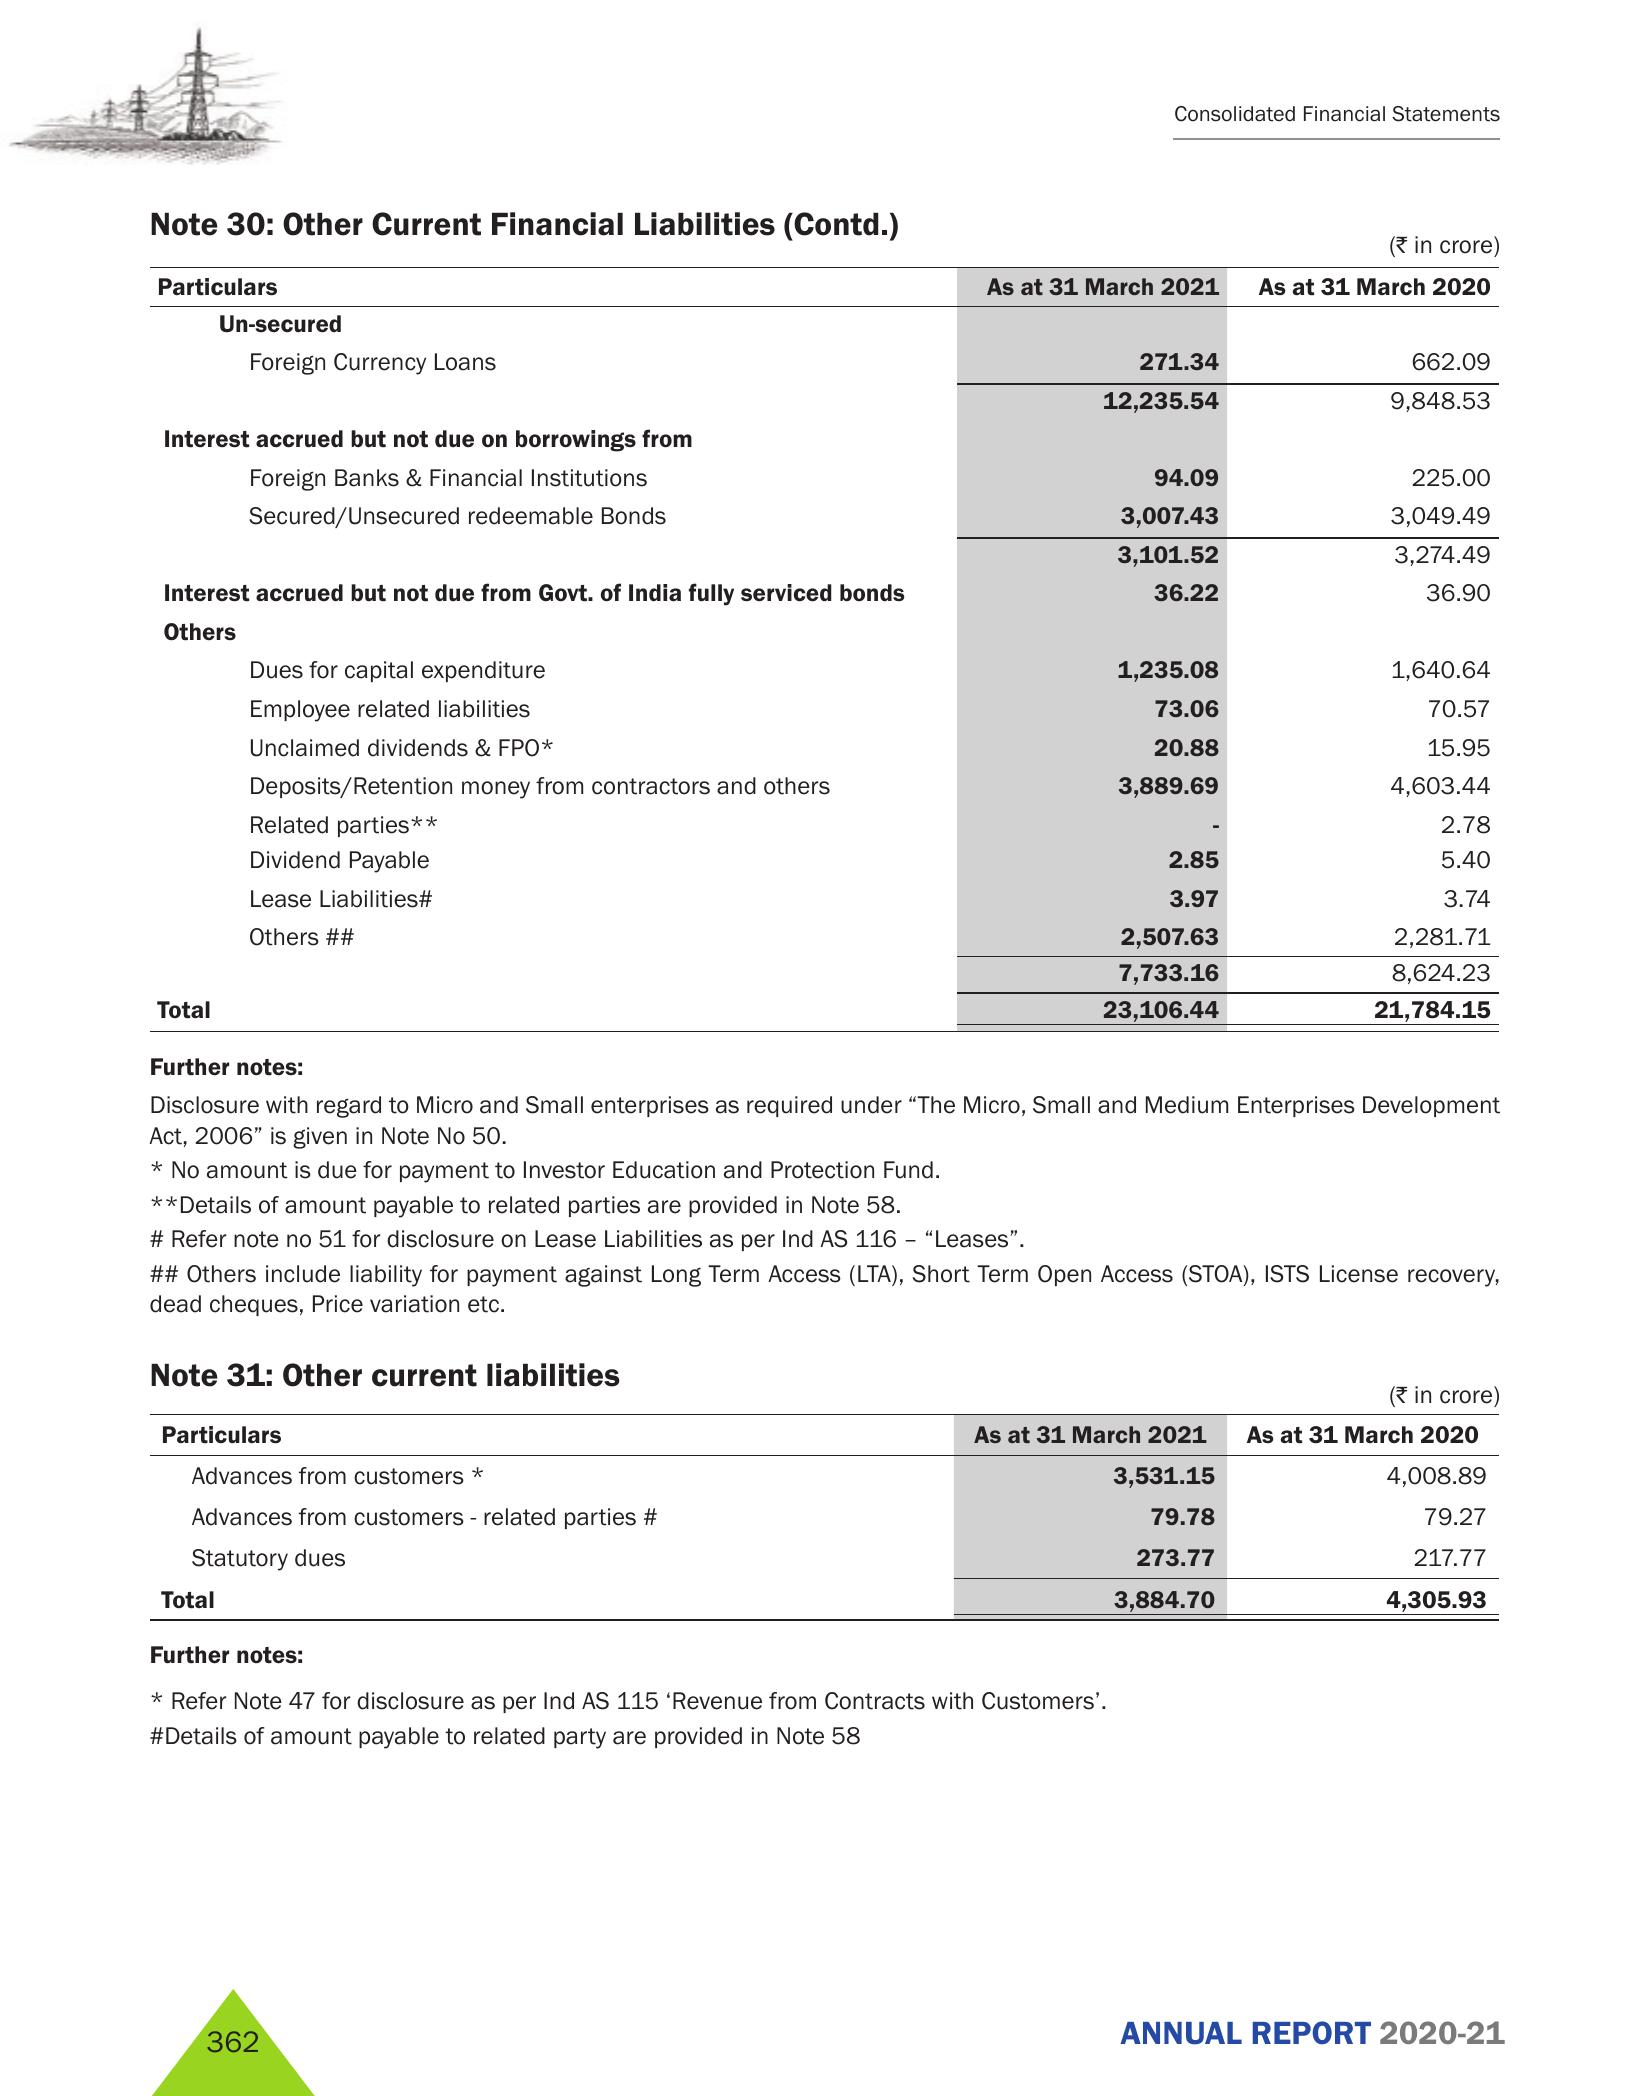Footer: (0, 1965, 1650, 2096)
Header: (0, 0, 1650, 175)
Table: (122, 257, 1511, 1029), (99, 1414, 1495, 1615)
